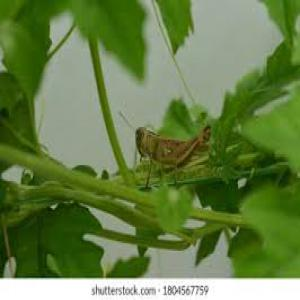locust: (121, 90, 226, 179)
